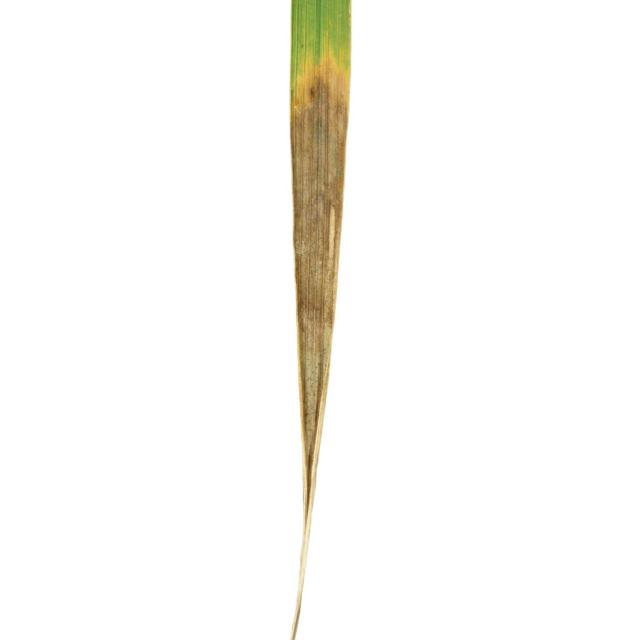Leaf scald: (186, 0, 424, 640)
